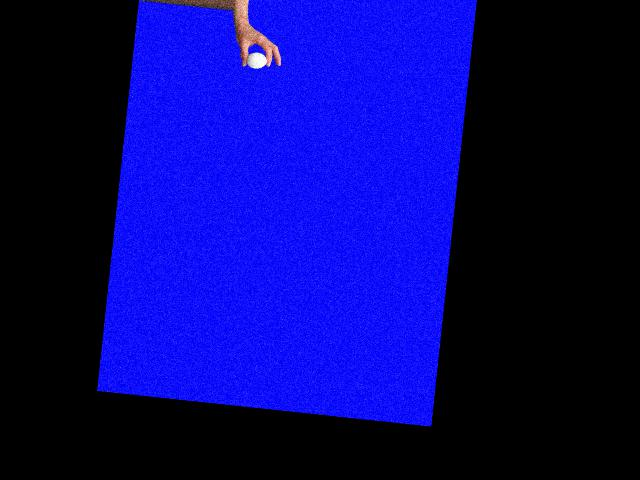egg: (245, 51, 267, 70)
